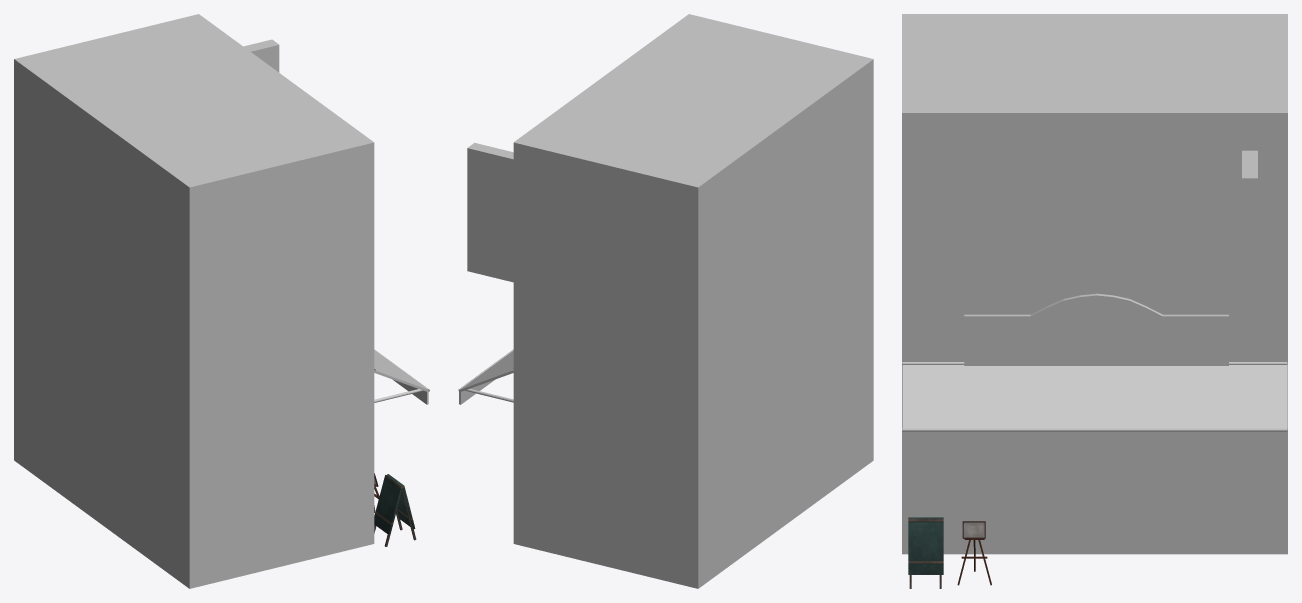
The model's file is _home bread01.fbx.
3 renders of one model, left to right at view 1: azimuth 30°, elevation 25°; view 2: azimuth 150°, elevation 25°; view 3: azimuth 270°, elevation 25°, orthographic. The views are drawn at different scales.
Parts seen in each view (by area): view 1: Cube.001, Cube.002, Cube.042, Cylinder.089; view 2: Cube.001, Cylinder.089, Cube.042; view 3: Cube.001, Cube.042, Cube.043, Cylinder.089, Cube.002, Cylinder.003.
Boxes of the visible parts, box(x1,y1,x2,y2) form: Cube.001: box(14, 14, 374, 588); Cube.002: box(374, 474, 416, 546); Cube.042: box(374, 351, 428, 404); Cylinder.089: box(243, 39, 279, 72); Cube.001: box(513, 14, 873, 588); Cylinder.089: box(467, 142, 513, 282); Cube.042: box(459, 350, 513, 404); Cube.001: box(902, 14, 1287, 554); Cube.042: box(902, 364, 1287, 444); Cube.043: box(964, 293, 1228, 365); Cylinder.089: box(1242, 150, 1257, 313); Cube.002: box(908, 517, 943, 588); Cylinder.003: box(902, 428, 1287, 431).
Size of the model in its own units: 229 by 368 by 285.
